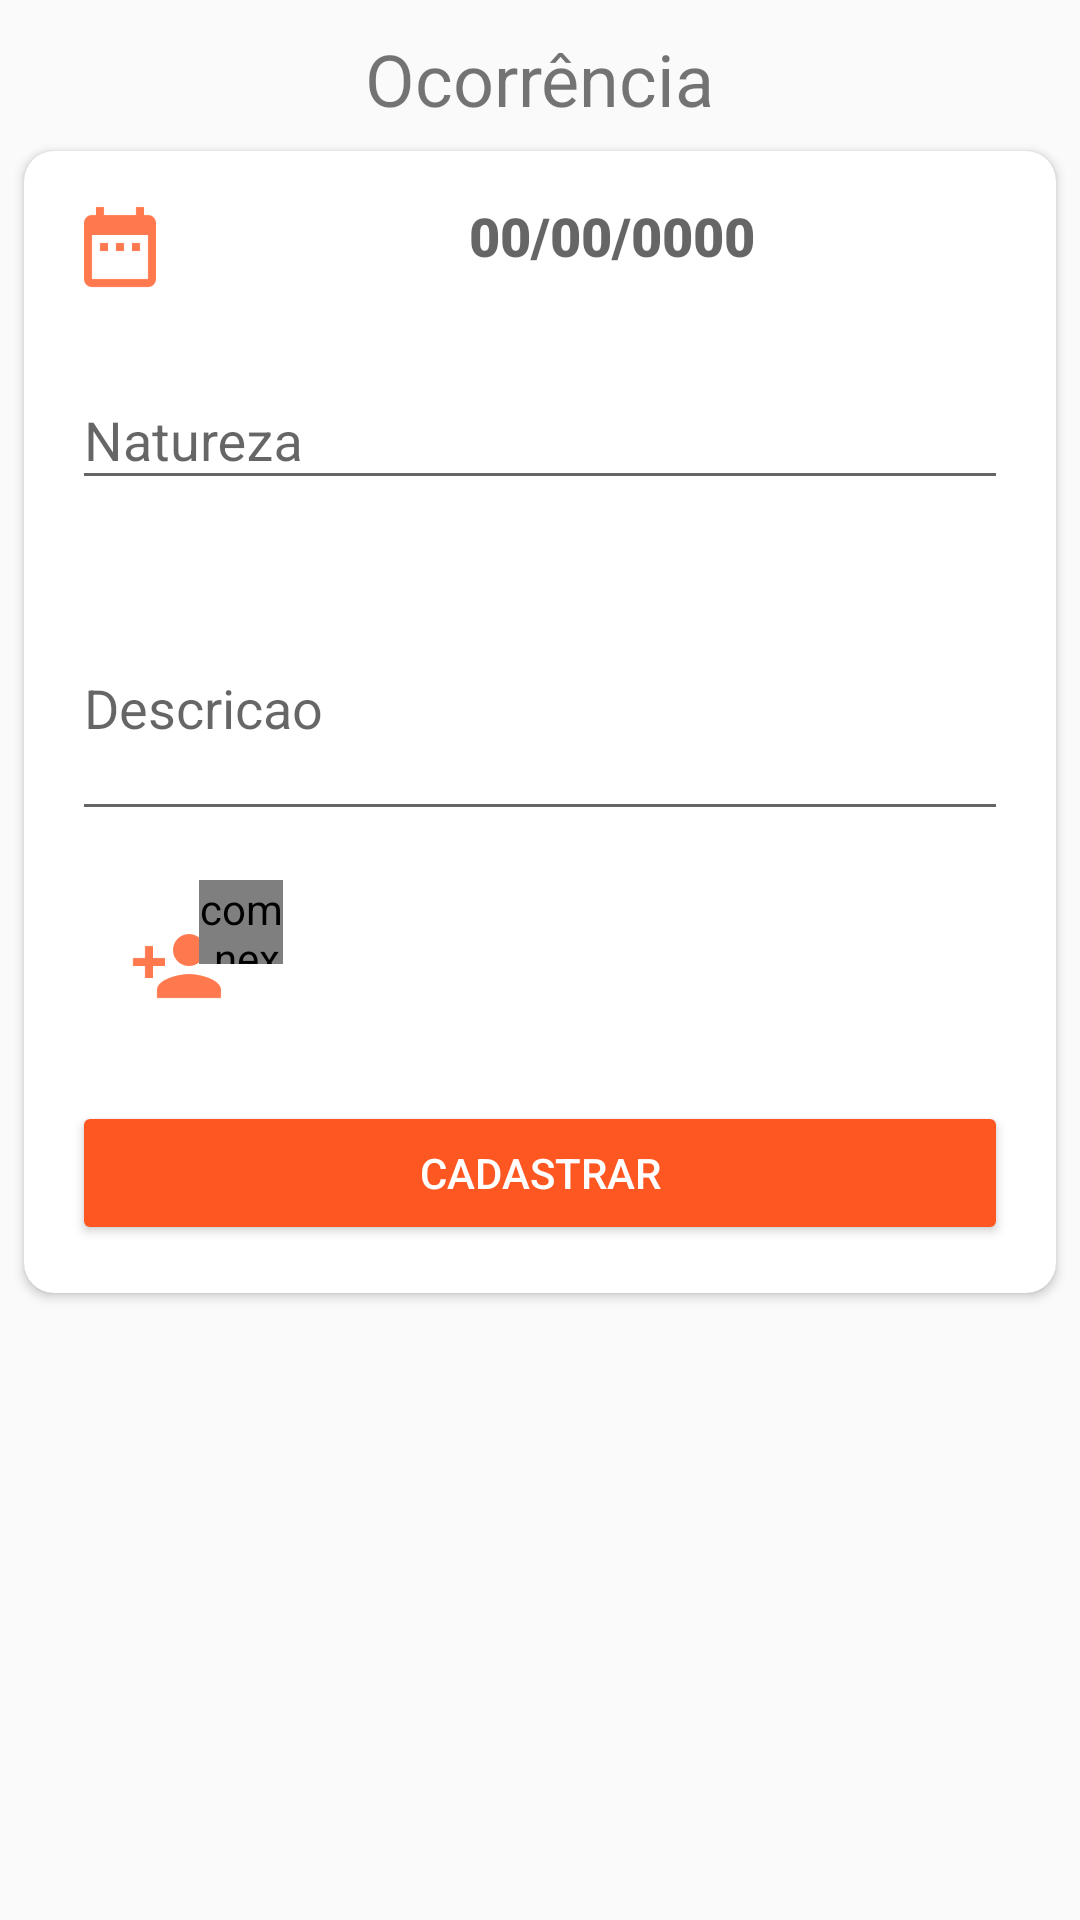

Locate icon controls on the screen. Image size 1080 x 1920, boxes as (x1, y1, x2, y2).
Imagem de calendario: (84, 207, 156, 287)
